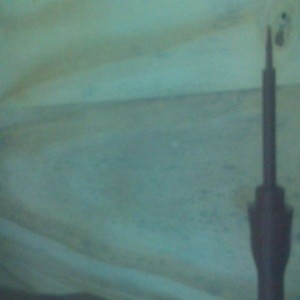solder: (246, 22, 295, 300)
